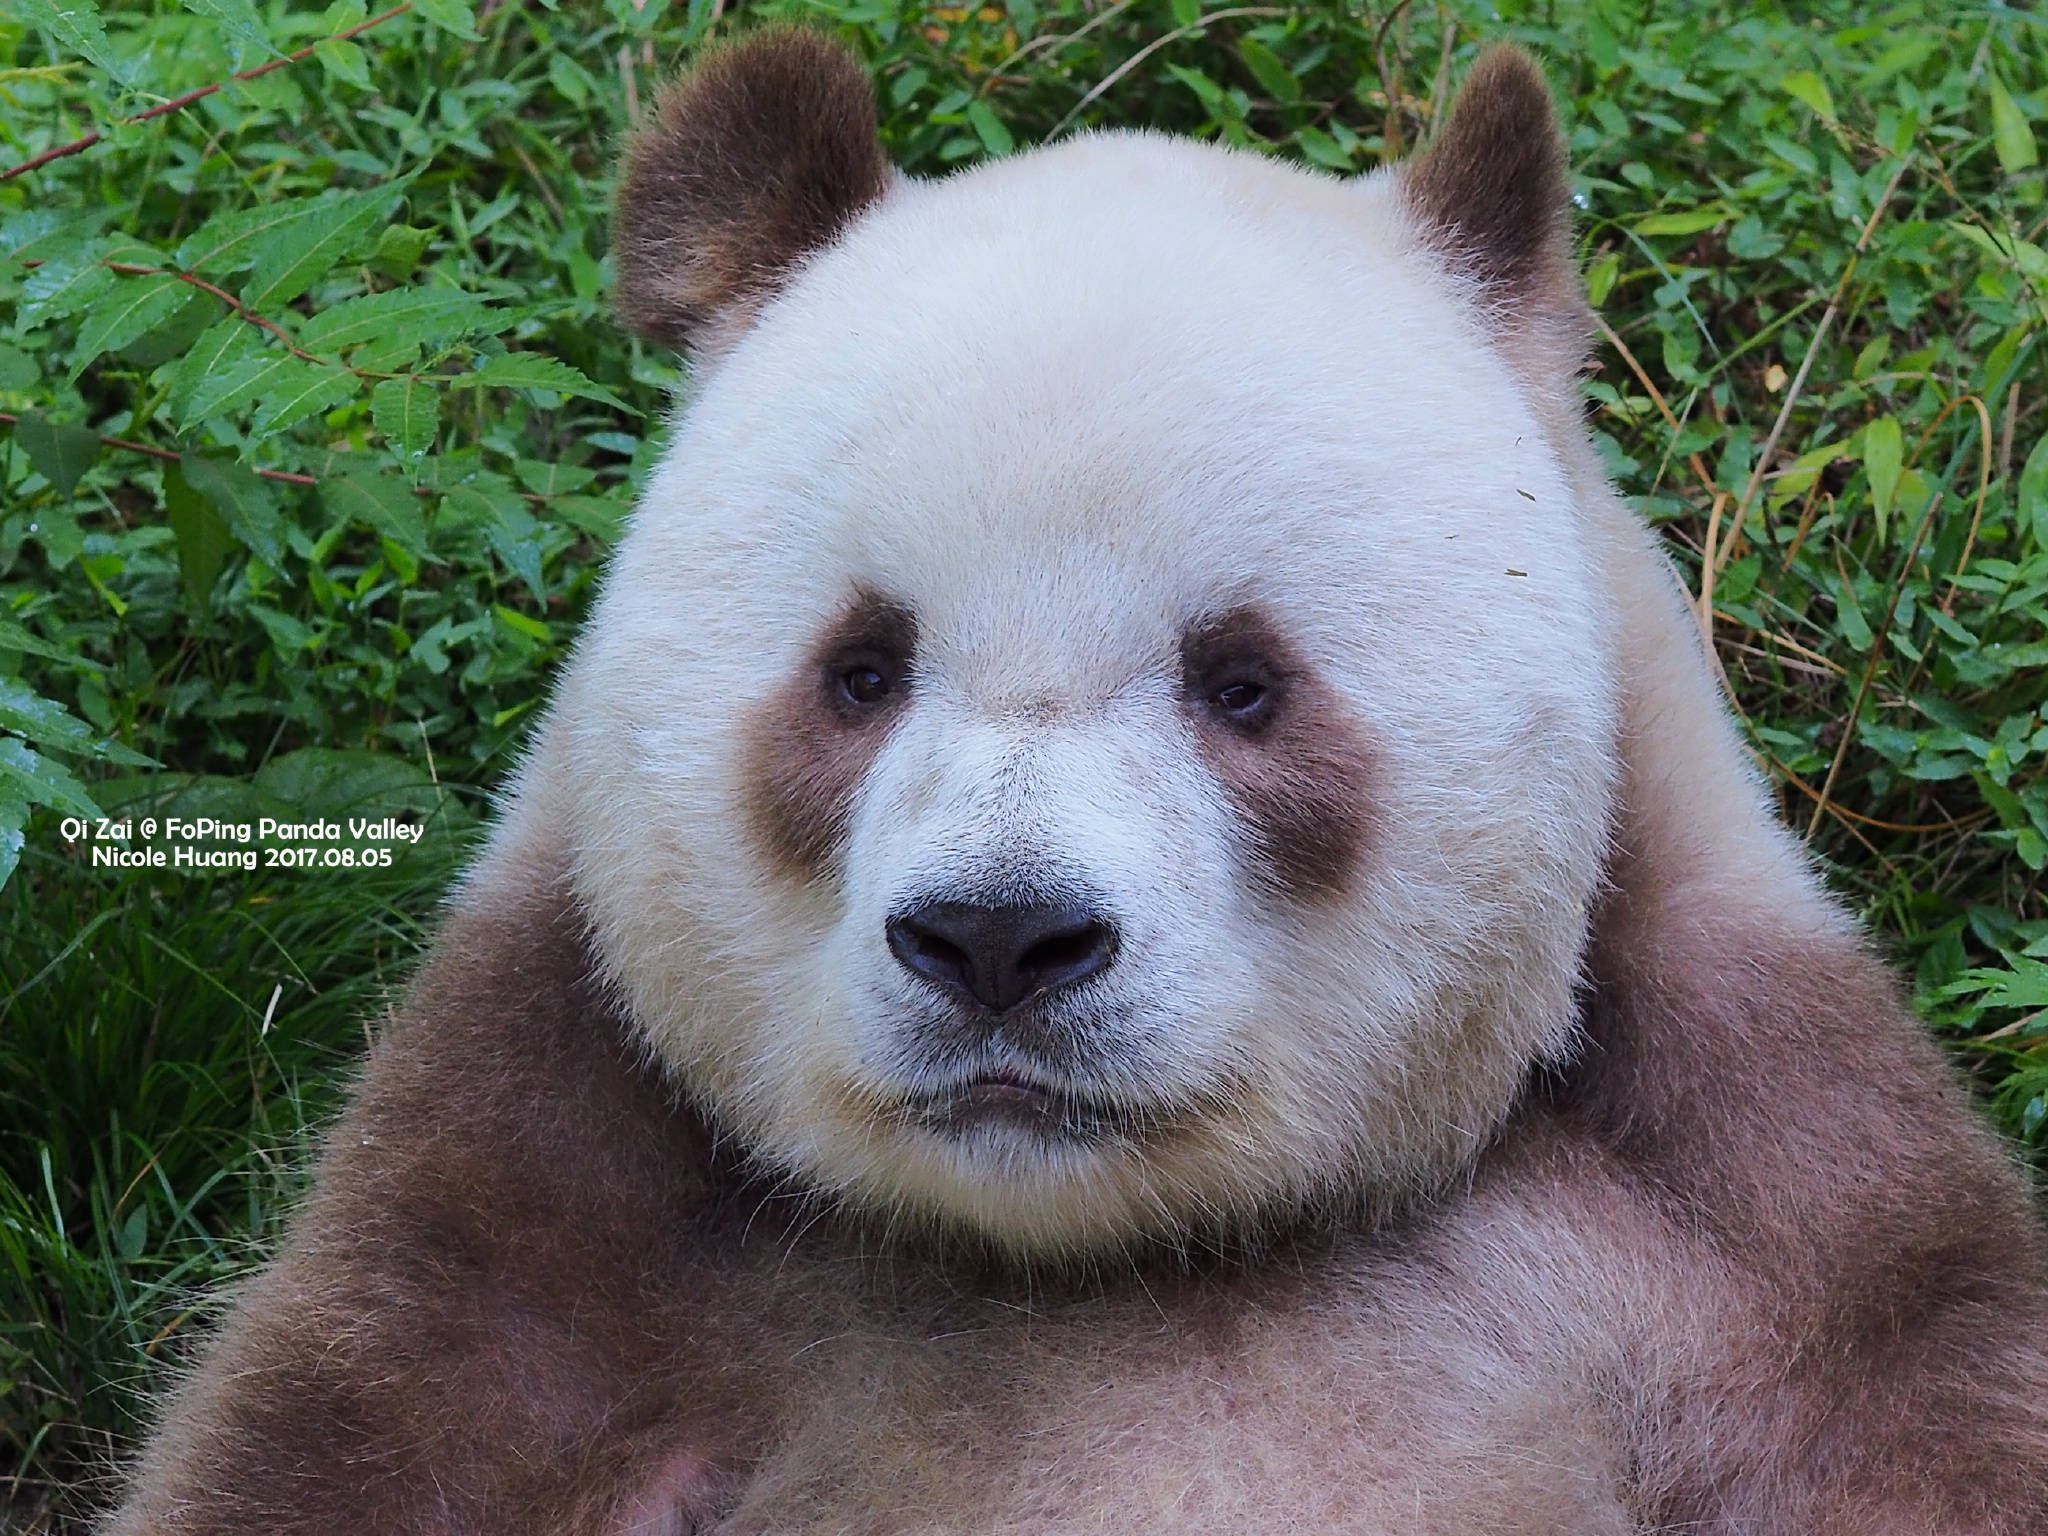panda: (293, 35, 2029, 1520)
